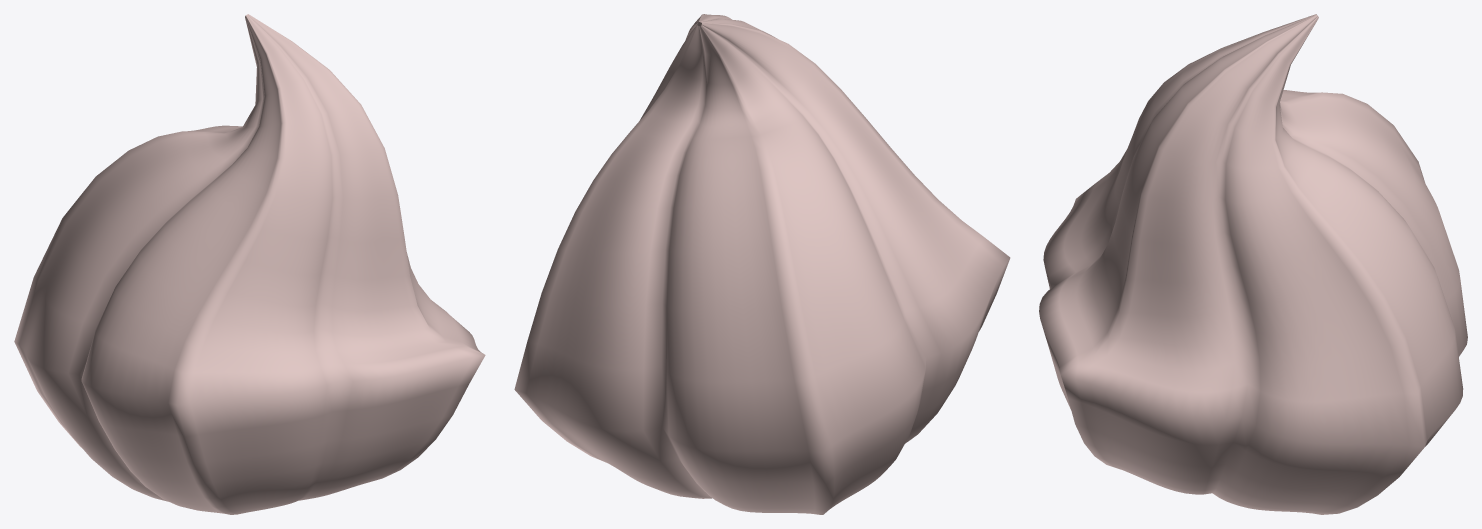
The model's file is cream-crown.glb.
The picture shows the model from 3 angles, left to right: view 1: azimuth 30°, elevation 25°; view 2: azimuth 150°, elevation 25°; view 3: azimuth 270°, elevation 25°; orthographic projection. The views are drawn at different scales.
Parts seen in each view (by area): view 1: cream; view 2: cream; view 3: cream.
Boxes of the visible parts, x1=… form: cream: x1=14, y1=14, x2=485, y2=514; cream: x1=514, y1=14, x2=1010, y2=514; cream: x1=1039, y1=14, x2=1467, y2=514.
Bounding box in the file's own units: 10.31 × 12.2 × 9.92.
